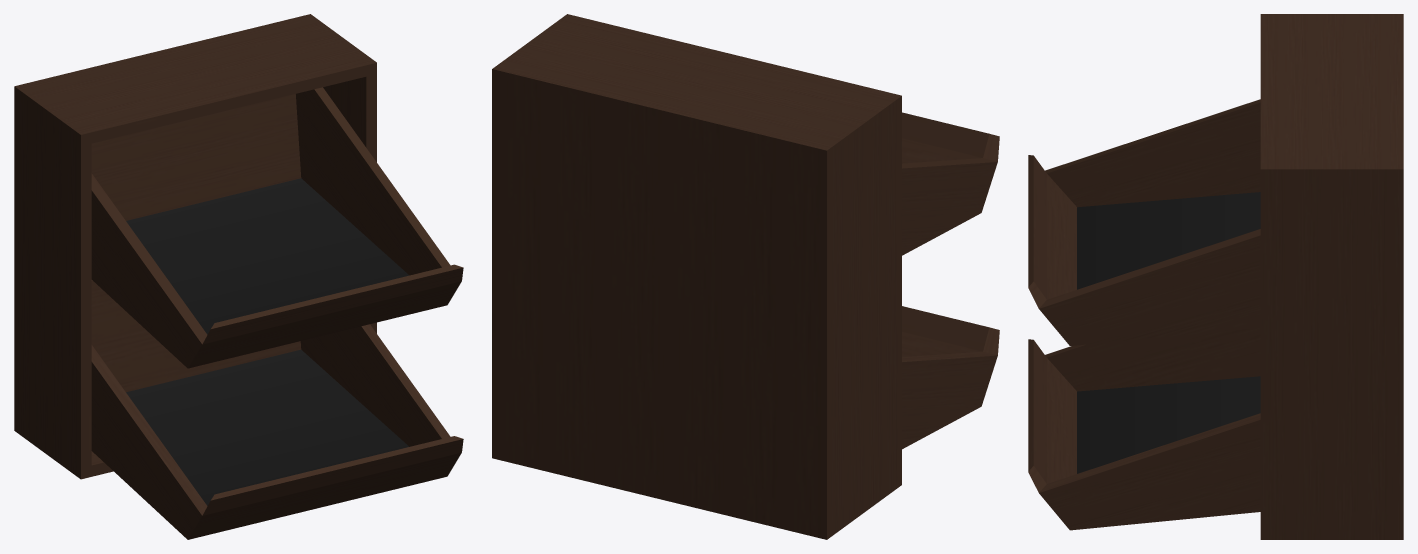
The model's file is Display_Small_A_2.FBX.
The picture shows the model from 3 angles, left to right: view 1: azimuth 30°, elevation 25°; view 2: azimuth 150°, elevation 25°; view 3: azimuth 270°, elevation 25°; orthographic projection. The views are drawn at different scales.
Visible parts, largest first — view 1: Counter_Display_Small; view 2: Counter_Display_Small; view 3: Counter_Display_Small.
Part boxes in pixels (bbox=[...]): Counter_Display_Small: bbox=[14, 14, 463, 539]; Counter_Display_Small: bbox=[492, 14, 999, 539]; Counter_Display_Small: bbox=[1028, 14, 1403, 539].
Bounding box in the file's own units: 90 × 100 × 91.88.
